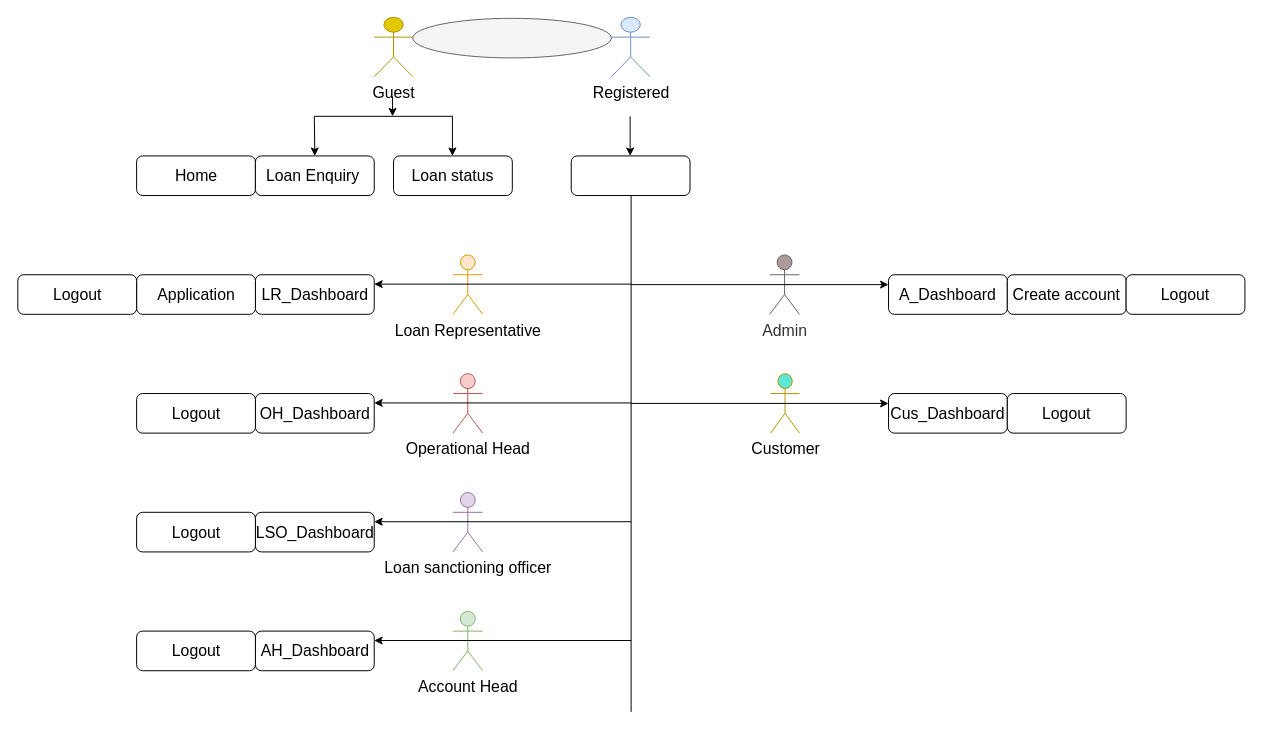
The diagram is 1262 pixels wide and 731 high, and some of its shapes have lost their labels. The centre of each missing label's shape, as x and y in pixels:
Login: (x=630, y=175)
User: (x=511, y=37)
